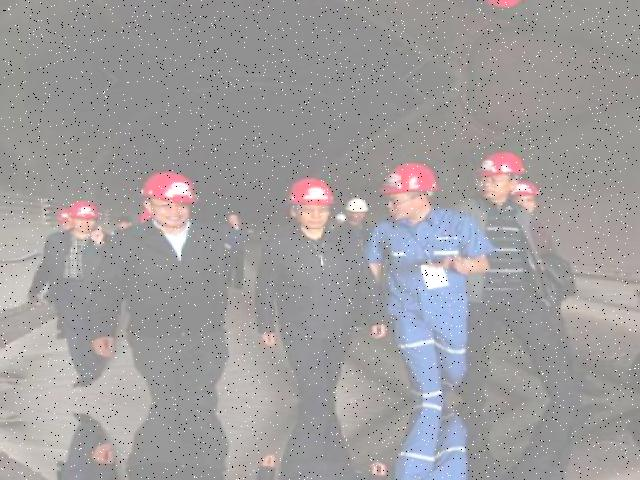Helmet: (137, 168, 200, 206), (469, 144, 524, 186), (378, 162, 442, 196), (280, 173, 338, 209), (58, 198, 104, 224)
